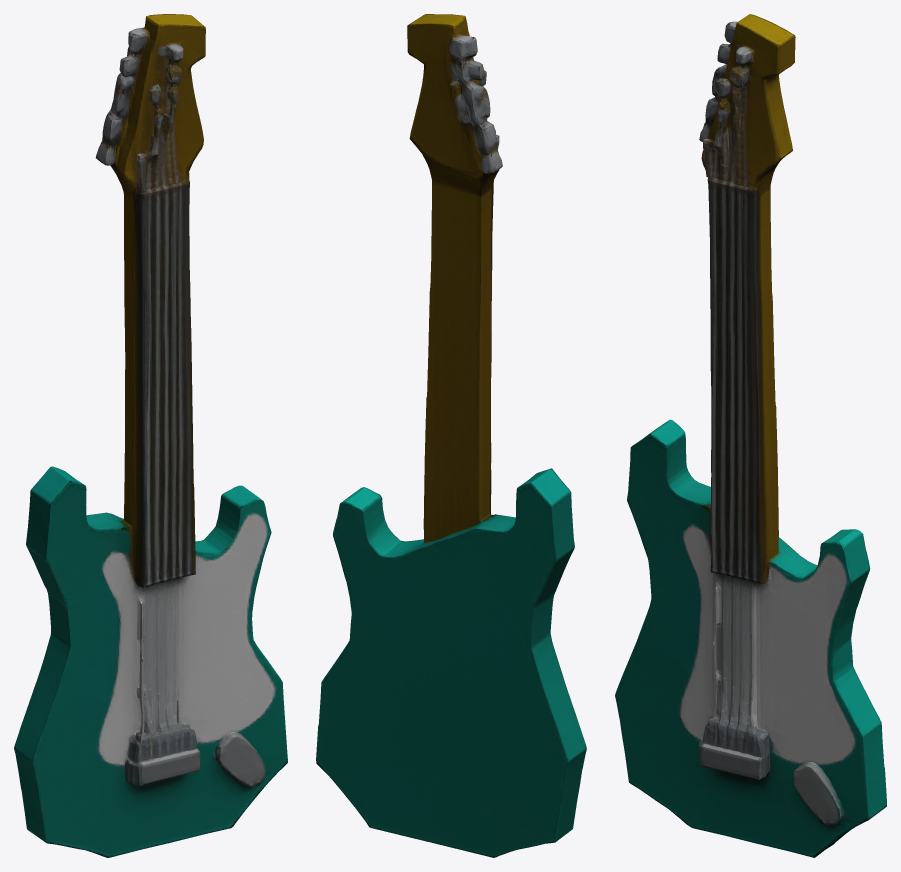
3 views of the same model, side by side, from view 1: azimuth 30°, elevation 25°; view 2: azimuth 150°, elevation 25°; view 3: azimuth 330°, elevation 25° (orthographic).
Parts seen in each view (by area): view 1: world; view 2: world; view 3: world.
Part boxes in pixels (x1,y1,x2,y2): world: (14, 14, 287, 857); world: (316, 14, 586, 857); world: (615, 14, 886, 857).
Size of the model in its own units: 0.3239 by 0.9989 by 0.0681.
1 material, 1 textured.
